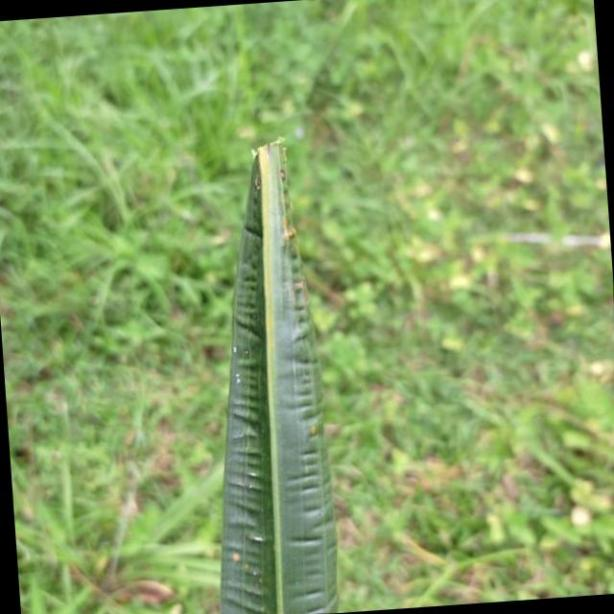Boron: (216, 144, 339, 614)
